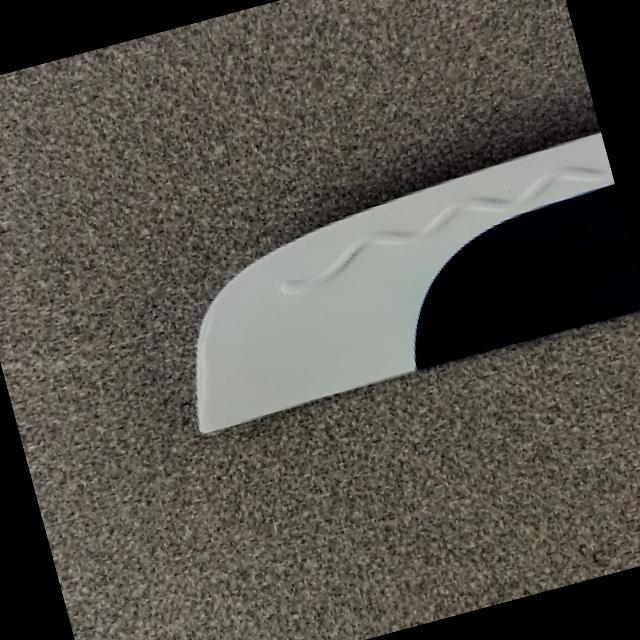healthy: (198, 132, 640, 431)
